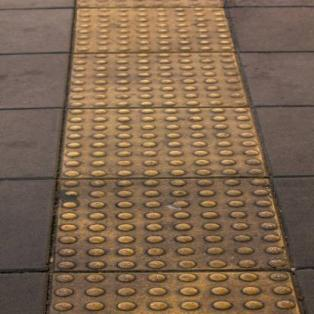Podoctatil: (44, 0, 306, 313)
